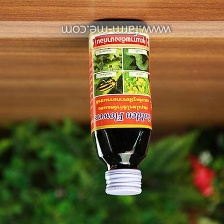insecticide: (81, 15, 157, 199)
